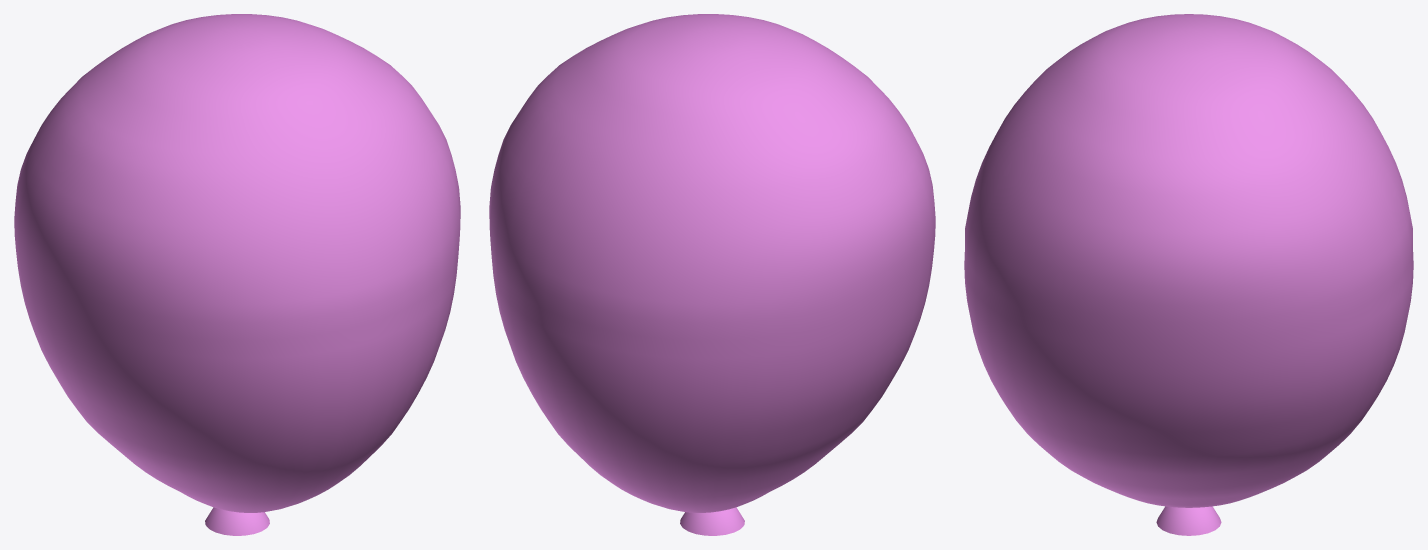
The model's file is enemy01.fbx.
3 renders of one model, left to right at view 1: azimuth 30°, elevation 25°; view 2: azimuth 150°, elevation 25°; view 3: azimuth 270°, elevation 25°, orthographic.
Visible parts, largest first — view 1: pSphere2; view 2: pSphere2; view 3: pSphere2.
Part boxes in pixels (x1=…): pSphere2: x1=14, y1=14, x2=460, y2=535; pSphere2: x1=489, y1=14, x2=935, y2=535; pSphere2: x1=964, y1=14, x2=1413, y2=535.
Bounding box in the file's own units: 3.79 × 4.53 × 3.81.
